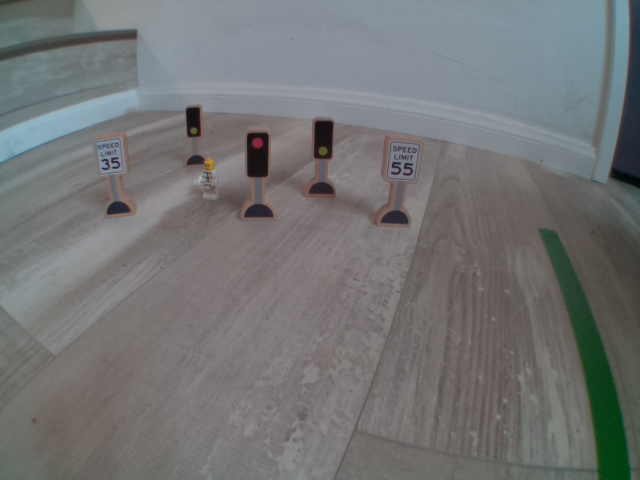Green Traffic Light: (305, 112, 343, 168), (180, 102, 211, 147)
Red Traffic Light: (238, 125, 278, 183)
Speed Limit 35: (83, 129, 135, 178)
Speed Limit 55: (376, 124, 430, 191)
person: (189, 152, 230, 209)
